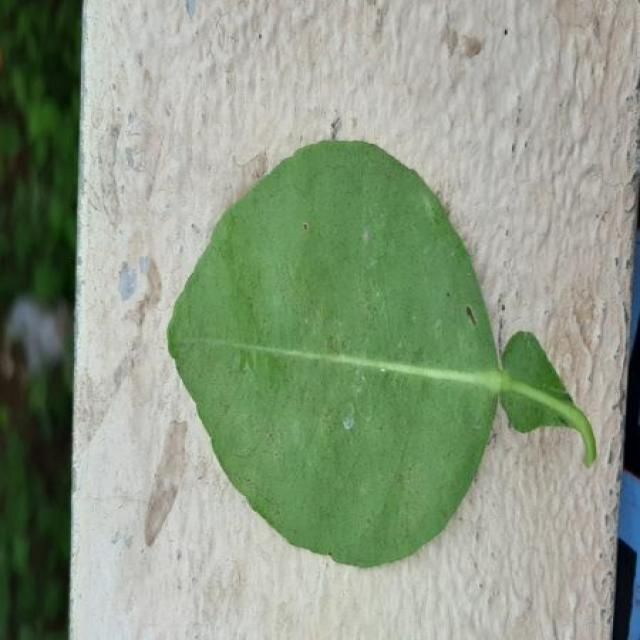lemon: (168, 140, 597, 567)
lemongrass: (167, 140, 597, 567), (168, 141, 597, 567)
neem: (168, 141, 597, 567)
